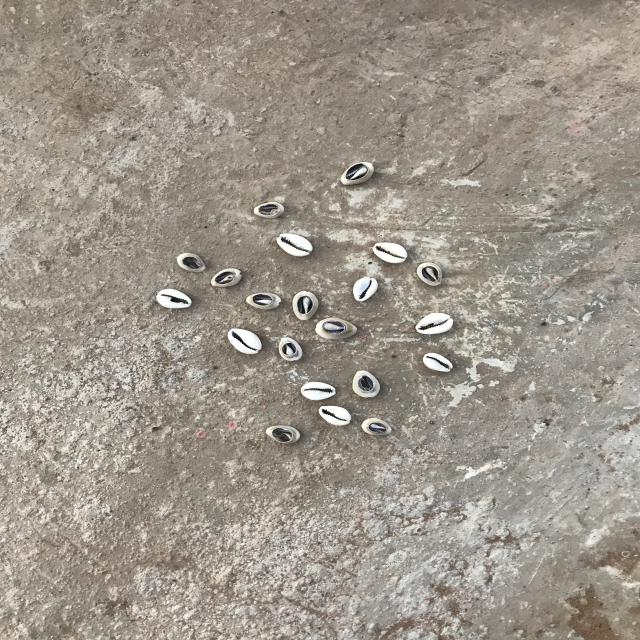facedown: (337, 157, 377, 189), (314, 317, 359, 343), (348, 368, 382, 400), (290, 287, 321, 322), (264, 422, 307, 446), (415, 260, 448, 289), (252, 198, 288, 222), (210, 265, 242, 290), (245, 290, 282, 311), (172, 252, 208, 273), (278, 333, 304, 362), (362, 415, 393, 437)
faceup: (275, 233, 319, 260), (414, 310, 456, 338), (369, 238, 408, 266), (152, 286, 196, 310), (227, 327, 265, 354), (299, 377, 338, 402), (347, 273, 378, 303), (316, 405, 352, 427), (420, 352, 454, 374)
